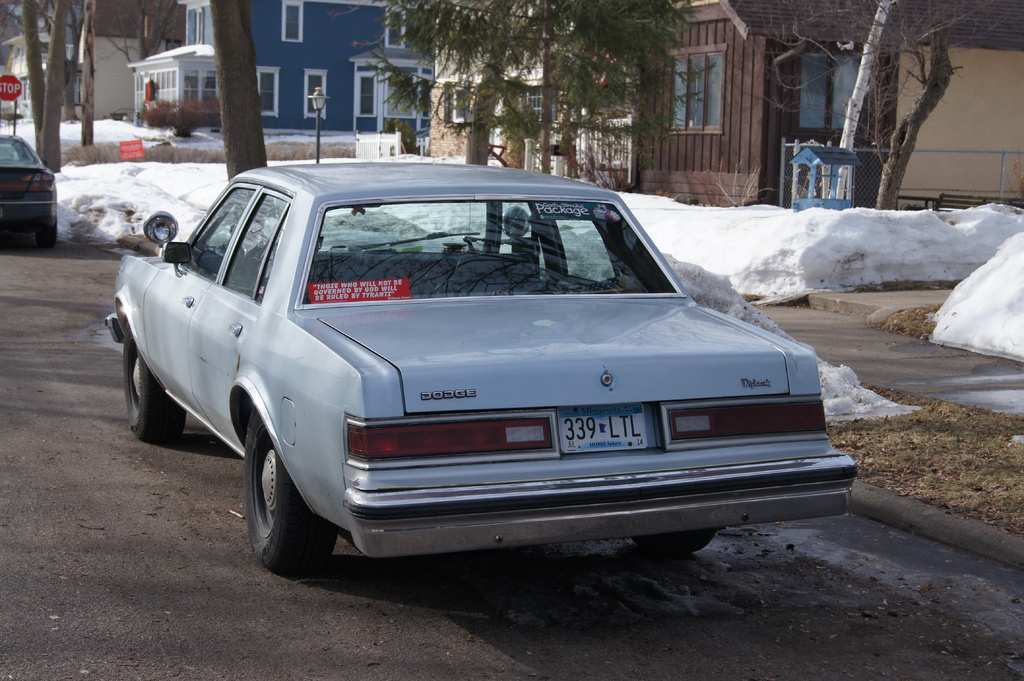Car: (103, 160, 859, 575), (0, 128, 62, 245)
